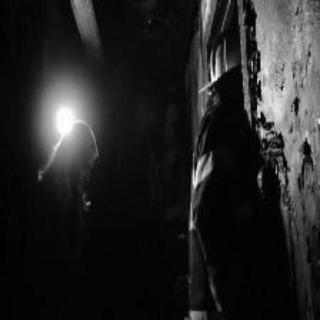other: (44, 96, 78, 142)
